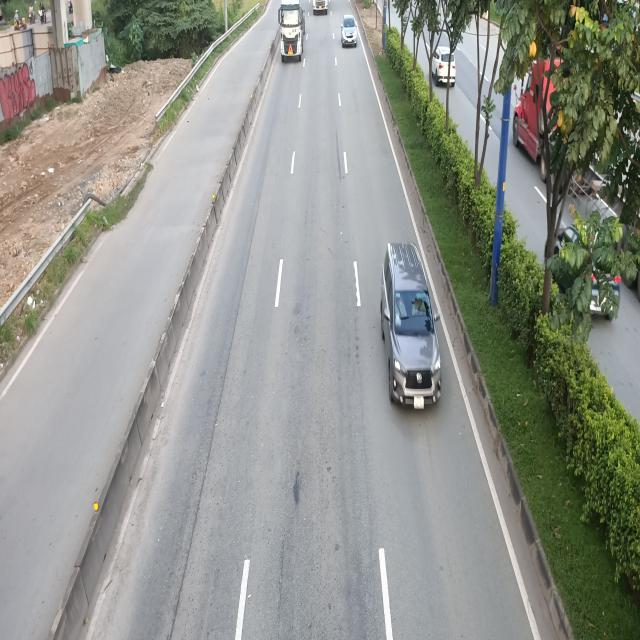car: (382, 239, 442, 407), (343, 11, 358, 44)
container: (278, 1, 305, 64)
